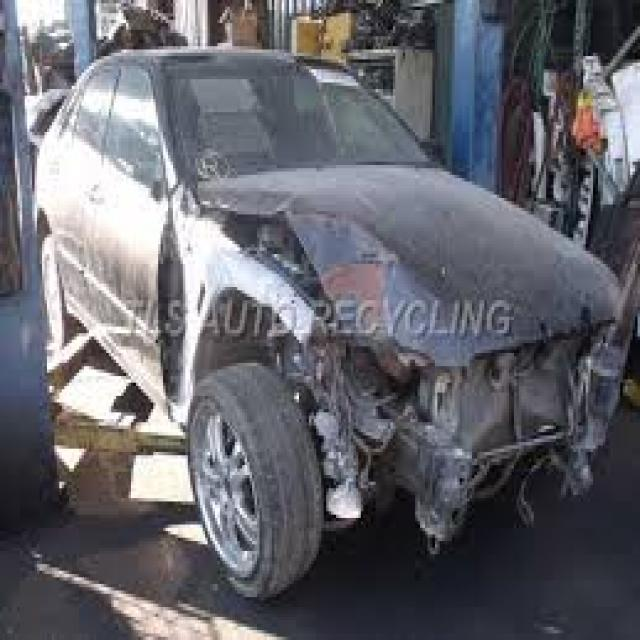severe: (146, 82, 637, 640)
